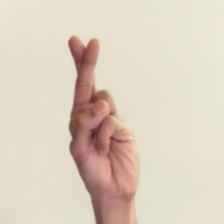R: (31, 19, 157, 209)
